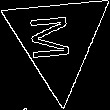M_E: (33, 15, 82, 65)
